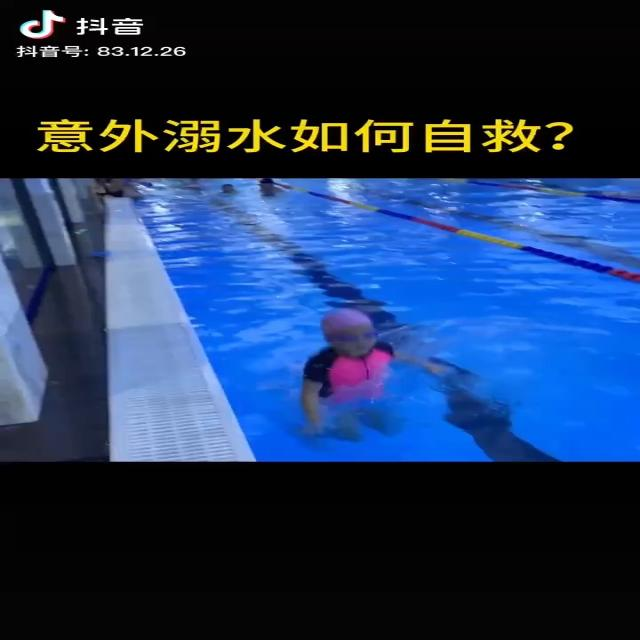Drowning: (295, 310, 455, 438)
